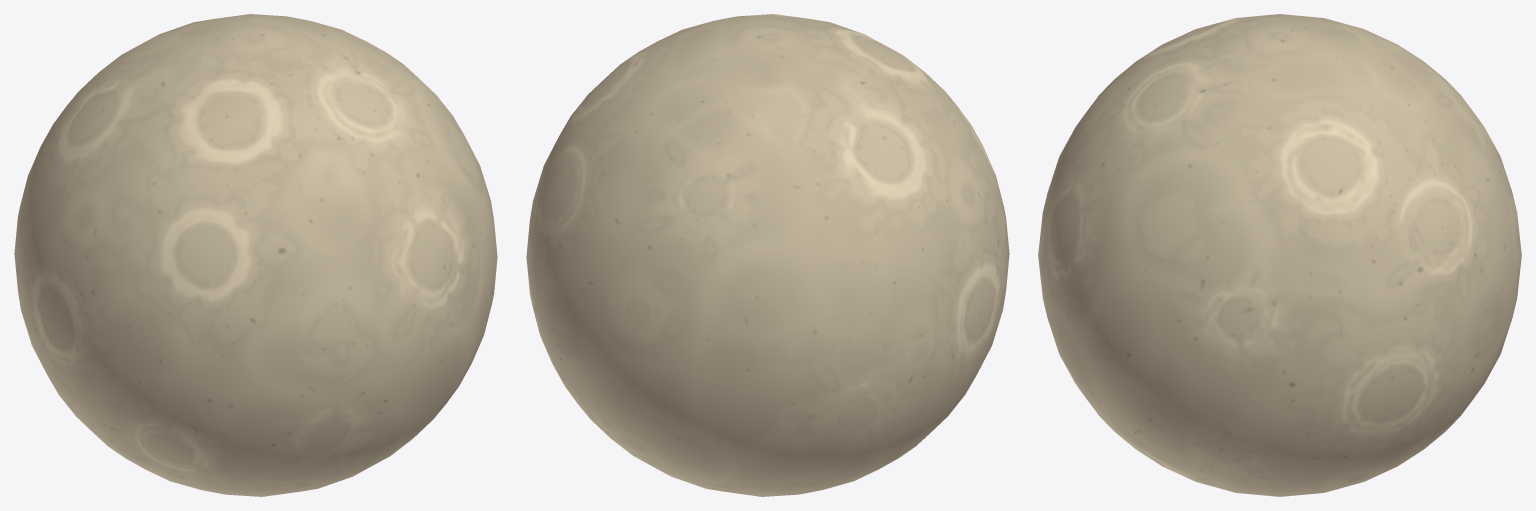
The model's file is moon.glb.
3 views of the same model, side by side, from view 1: azimuth 30°, elevation 25°; view 2: azimuth 150°, elevation 25°; view 3: azimuth 270°, elevation 25° (orthographic).
Parts seen in each view (by area): view 1: Object_2; view 2: Object_2; view 3: Object_2.
Part boxes in pixels (x1,y1,x2,y2): Object_2: (14, 14, 497, 496); Object_2: (526, 14, 1009, 496); Object_2: (1038, 14, 1521, 496).
Size of the model in its own units: 205 by 205 by 205.
1 material, 1 textured.
